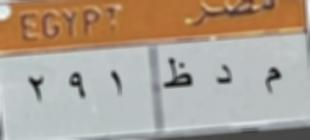1: (106, 69, 129, 105)
2: (25, 70, 50, 107)
9: (65, 68, 91, 107)
Thaa: (158, 57, 195, 95)
daal: (211, 65, 238, 95)
meem: (256, 64, 285, 97)
